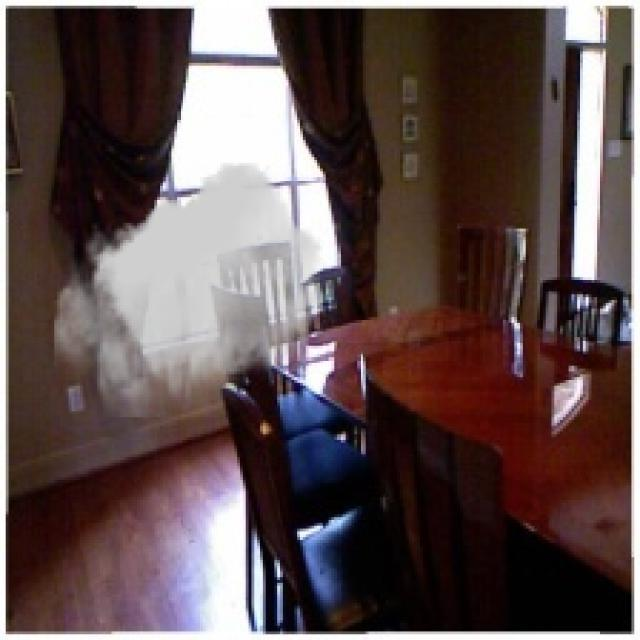Smoke: (54, 162, 326, 418)
